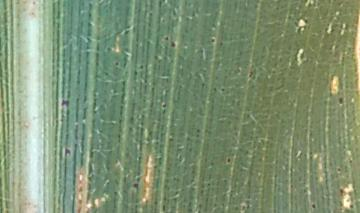tarspot: (63, 146, 73, 158), (60, 98, 70, 107), (157, 1, 167, 10), (338, 187, 346, 197), (337, 95, 344, 105), (169, 39, 176, 48), (132, 182, 139, 190), (113, 60, 120, 68), (209, 36, 216, 44), (335, 166, 342, 174), (348, 203, 356, 210), (161, 102, 168, 109), (310, 202, 317, 209), (133, 69, 139, 77), (138, 63, 145, 69), (163, 35, 169, 41), (347, 158, 353, 164), (226, 157, 231, 164), (219, 87, 225, 92)
